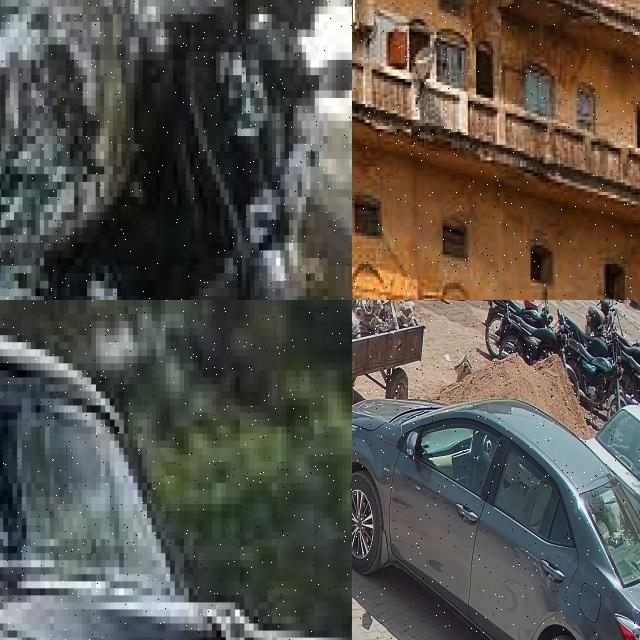bike: (0, 0, 352, 300), (497, 303, 568, 365), (567, 332, 623, 407), (483, 300, 549, 358), (562, 309, 616, 359), (620, 349, 640, 408), (585, 300, 615, 337), (618, 330, 640, 368)
car: (0, 300, 352, 640), (352, 399, 640, 640), (588, 405, 640, 519)
